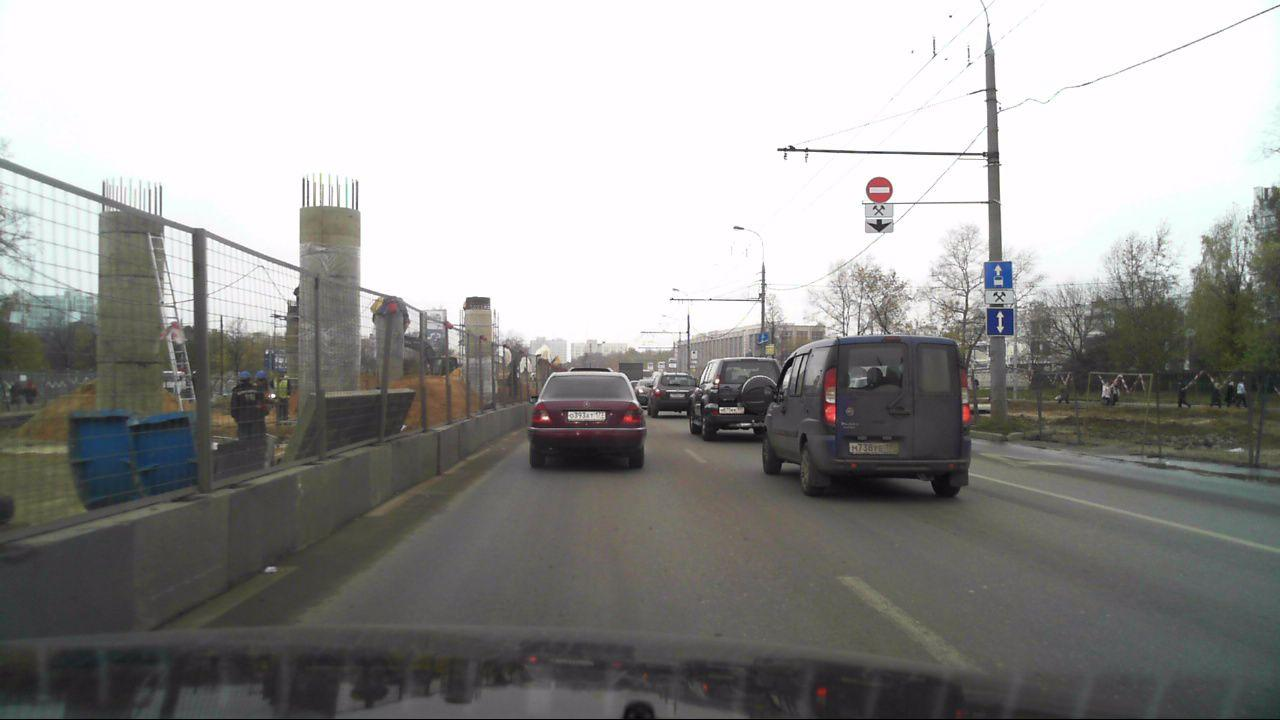3_1: (866, 177, 892, 202)
5_14_1: (983, 261, 1014, 288)
5_8: (986, 309, 1014, 334)
6_6: (757, 333, 770, 347)
8_14: (864, 218, 894, 233)
8_5_2: (985, 290, 1014, 305), (863, 204, 894, 216)
